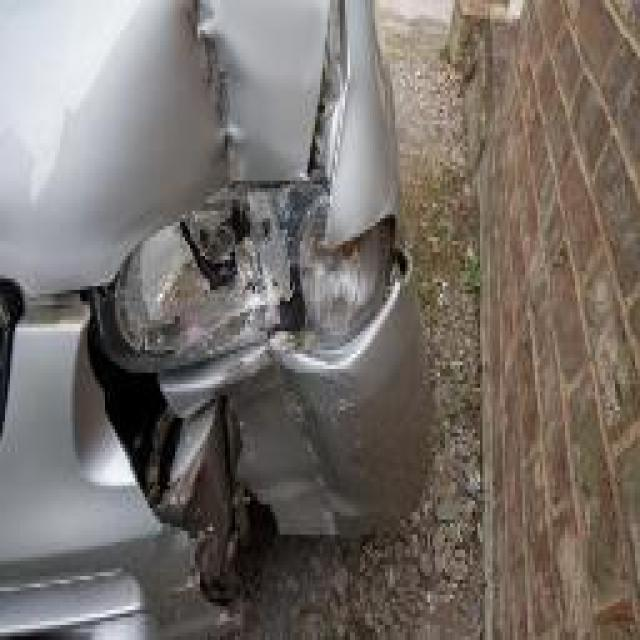Bonnet: (148, 0, 356, 195)
Bumper: (79, 302, 471, 632)
Light: (78, 176, 410, 381)
